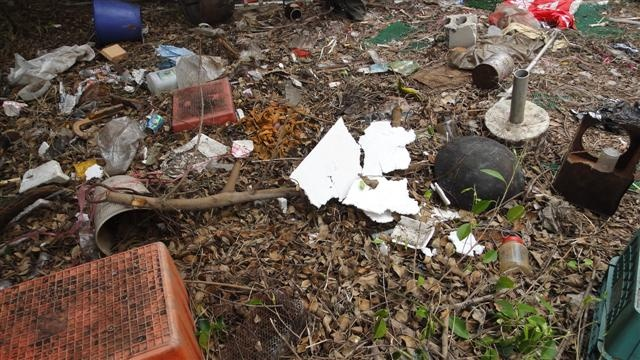bottle: (495, 232, 533, 277)
bowl: (435, 136, 529, 216)
box: (2, 240, 212, 360)
bucket: (91, 175, 165, 254), (90, 2, 149, 46), (472, 50, 516, 88)
